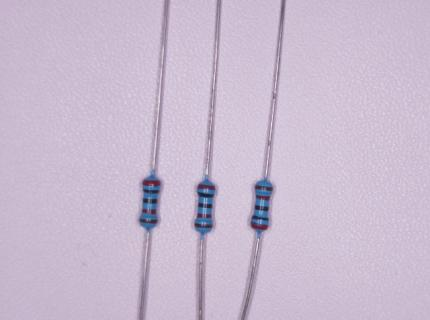Black band: (197, 192, 214, 198), (251, 215, 268, 220), (144, 189, 159, 194), (255, 205, 269, 210), (198, 203, 211, 208), (144, 199, 157, 203)
Brown band: (256, 186, 274, 191), (140, 219, 158, 223), (195, 224, 213, 228)
Red band: (250, 220, 268, 230), (198, 184, 215, 189), (256, 195, 270, 201), (142, 181, 160, 185), (143, 209, 156, 214), (198, 214, 212, 217)
